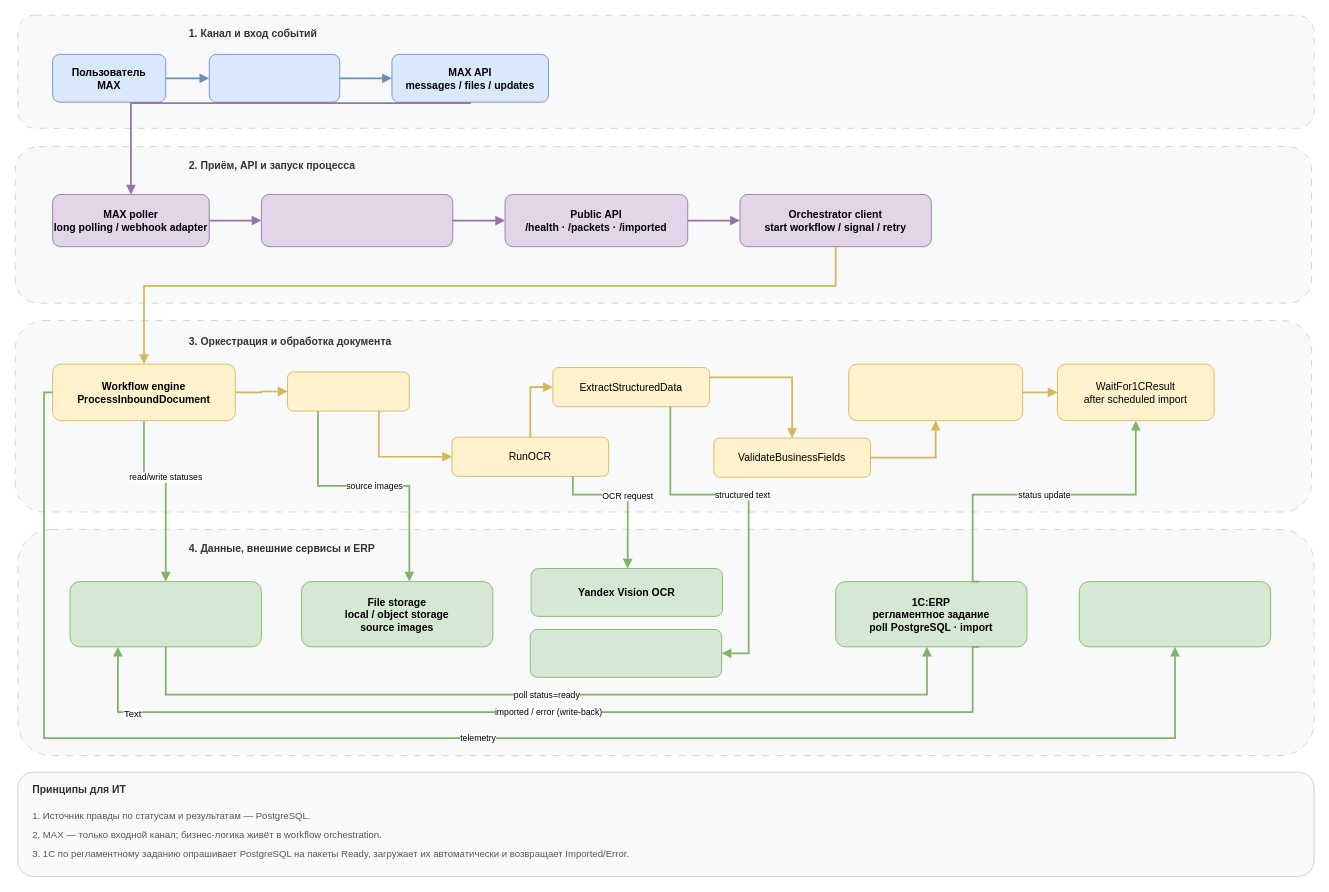
The diagram is 1329 pixels wide and 892 high, and some of its shapes have lost their labels. The centre of each missing label's shape, as x and y in pixels:
"Bot API / Intake service packet creation · context · auth" goes at point (357, 220).
"MAX Bot channel layer" goes at point (274, 78).
"Monitoring / logs / alerts SLA · retries · dead-letter" goes at point (1174, 614).
"PostgreSQL packets · statuses · result_json audit trail · bindings" goes at point (165, 614).
"PrepareImages" goes at point (348, 391).
"RouteByResult ready / manual_review / error" goes at point (935, 392).
"YandexGPT structuring / extraction" goes at point (625, 653).
